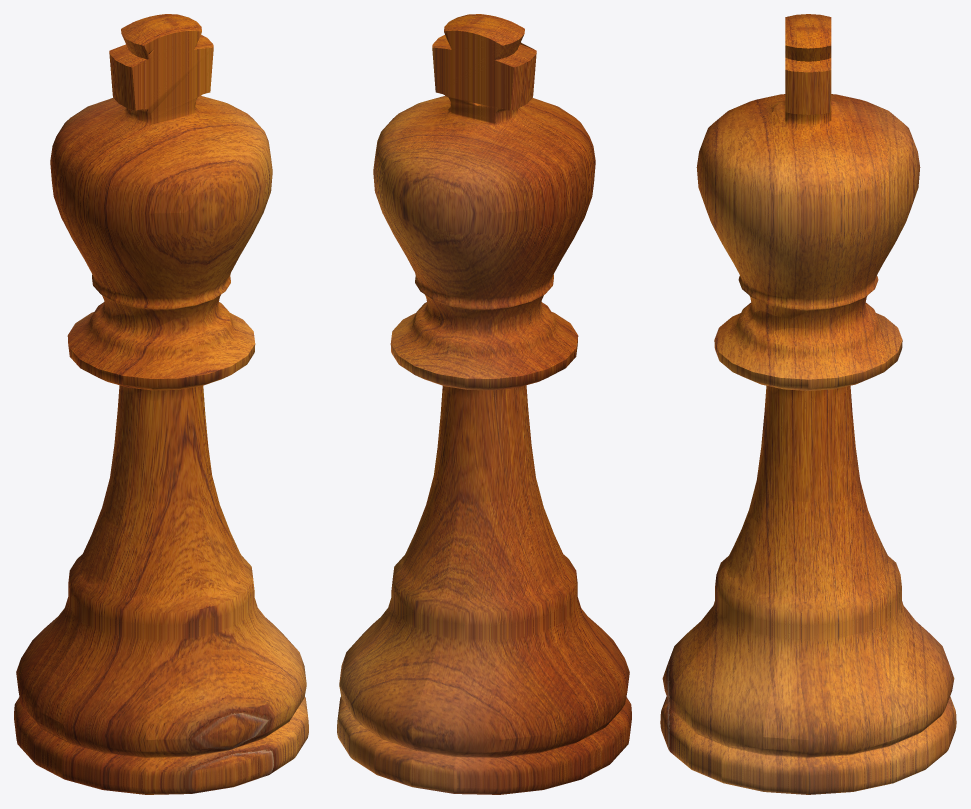
The model's file is branco-rei.obj.
3 views of the same model, side by side, from view 1: azimuth 30°, elevation 25°; view 2: azimuth 150°, elevation 25°; view 3: azimuth 270°, elevation 25° (orthographic).
Parts seen in each view (by area): view 1: RE2; view 2: RE2; view 3: RE2.
Part boxes in pixels (x1,y1,x2,y2): RE2: [14, 14, 308, 794]; RE2: [337, 14, 631, 794]; RE2: [660, 14, 956, 794].
Size of the model in its own units: 186 by 494 by 186.
1 material, 1 textured.
